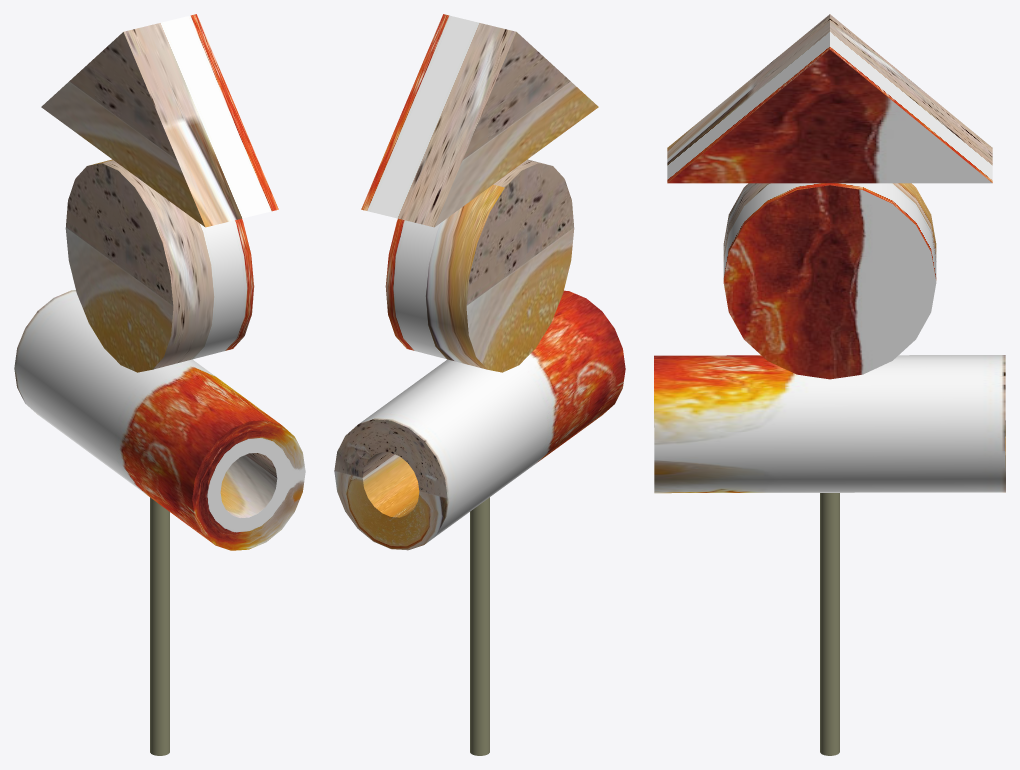
File: Oden2.FBX
The picture shows the model from 3 angles, left to right: view 1: azimuth 30°, elevation 25°; view 2: azimuth 150°, elevation 25°; view 3: azimuth 270°, elevation 25°; orthographic projection.
Parts seen in each view (by area): view 1: pPipe1, pCylinder1, pPrism1, pCylinder2; view 2: pPipe1, pCylinder1, pPrism1, pCylinder2; view 3: pPipe1, pCylinder1, pPrism1, pCylinder2.
Boxes of the visible parts, x1,y1,x2,y2 form: pPipe1: [14, 290, 305, 550]; pCylinder1: [65, 159, 254, 372]; pPrism1: [41, 14, 278, 227]; pCylinder2: [150, 497, 169, 755]; pPipe1: [334, 290, 625, 550]; pCylinder1: [385, 159, 574, 372]; pPrism1: [361, 14, 598, 227]; pCylinder2: [470, 497, 489, 755]; pPipe1: [654, 355, 1005, 493]; pCylinder1: [723, 183, 936, 379]; pPrism1: [667, 14, 992, 183]; pCylinder2: [820, 493, 839, 755].
Bounding box in the file's own units: 0.3982 × 2.44 × 1.08.
Materials: 2 (1 with a texture image).
